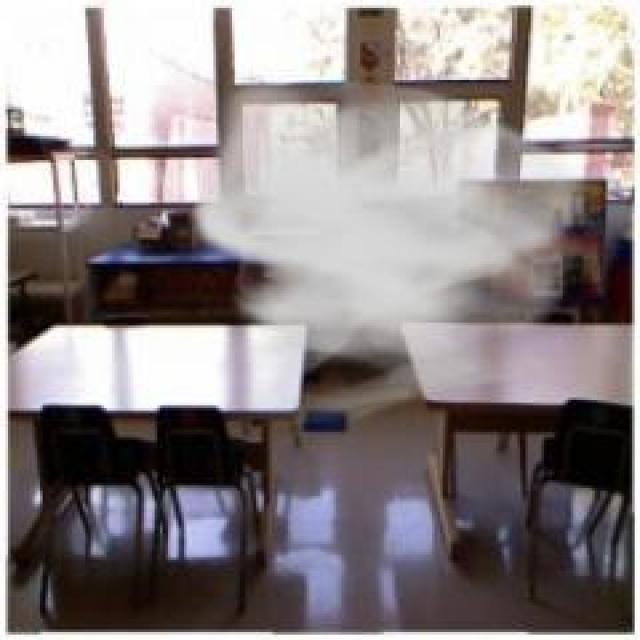Smoke: (188, 68, 602, 428)
